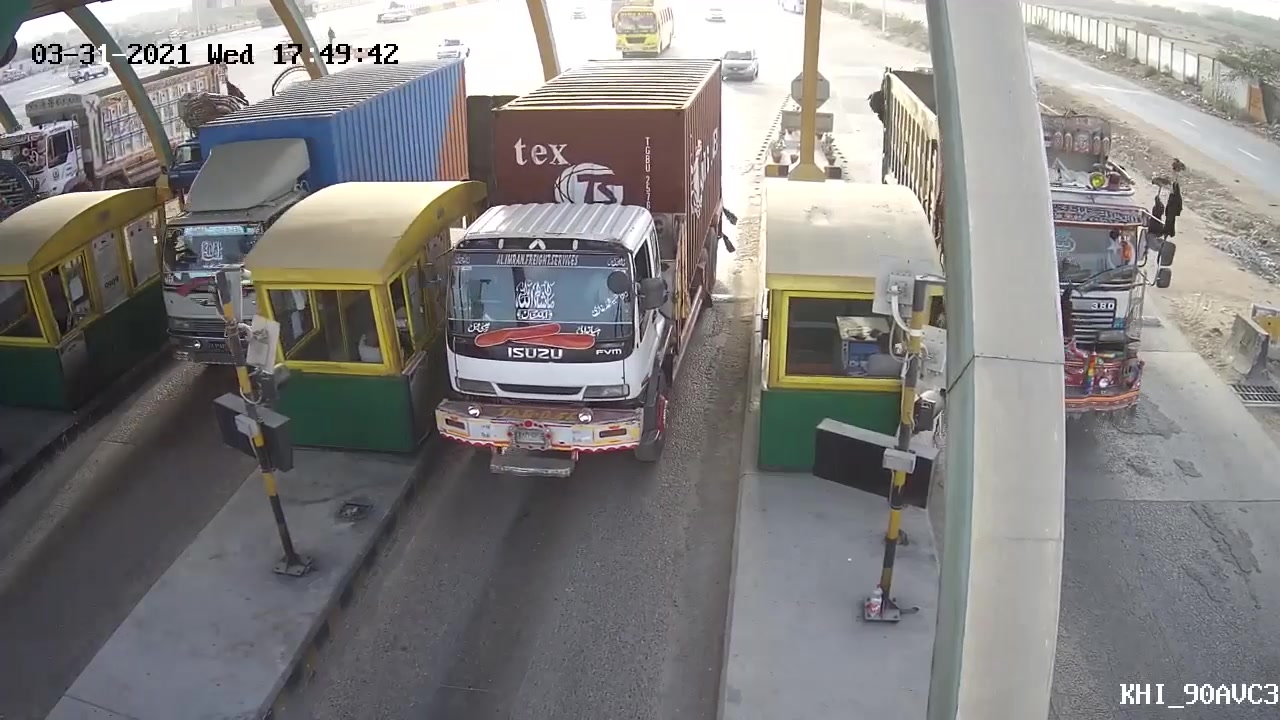F5: (434, 53, 734, 476)
